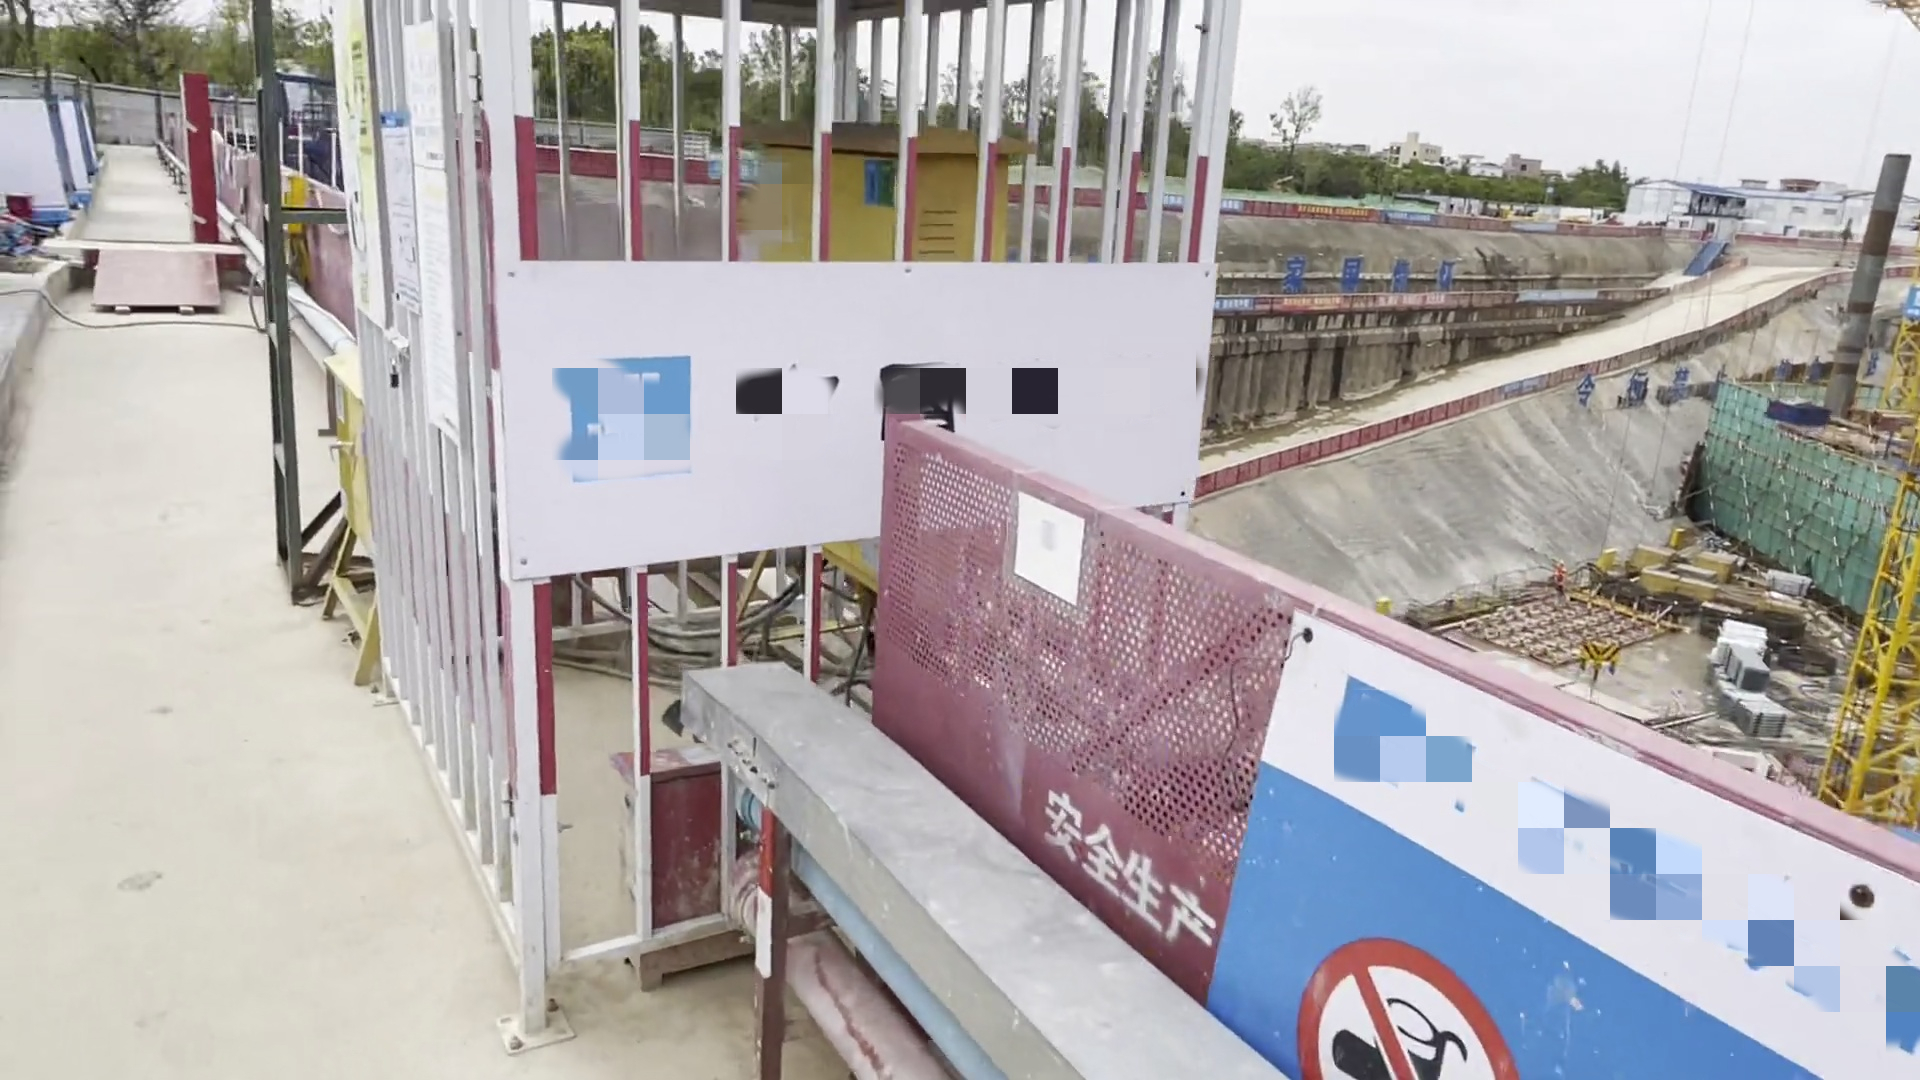board: (82, 237, 229, 319)
ebox: (749, 104, 1022, 274)
fence: (874, 405, 1254, 940)
hook: (1578, 641, 1619, 683)
